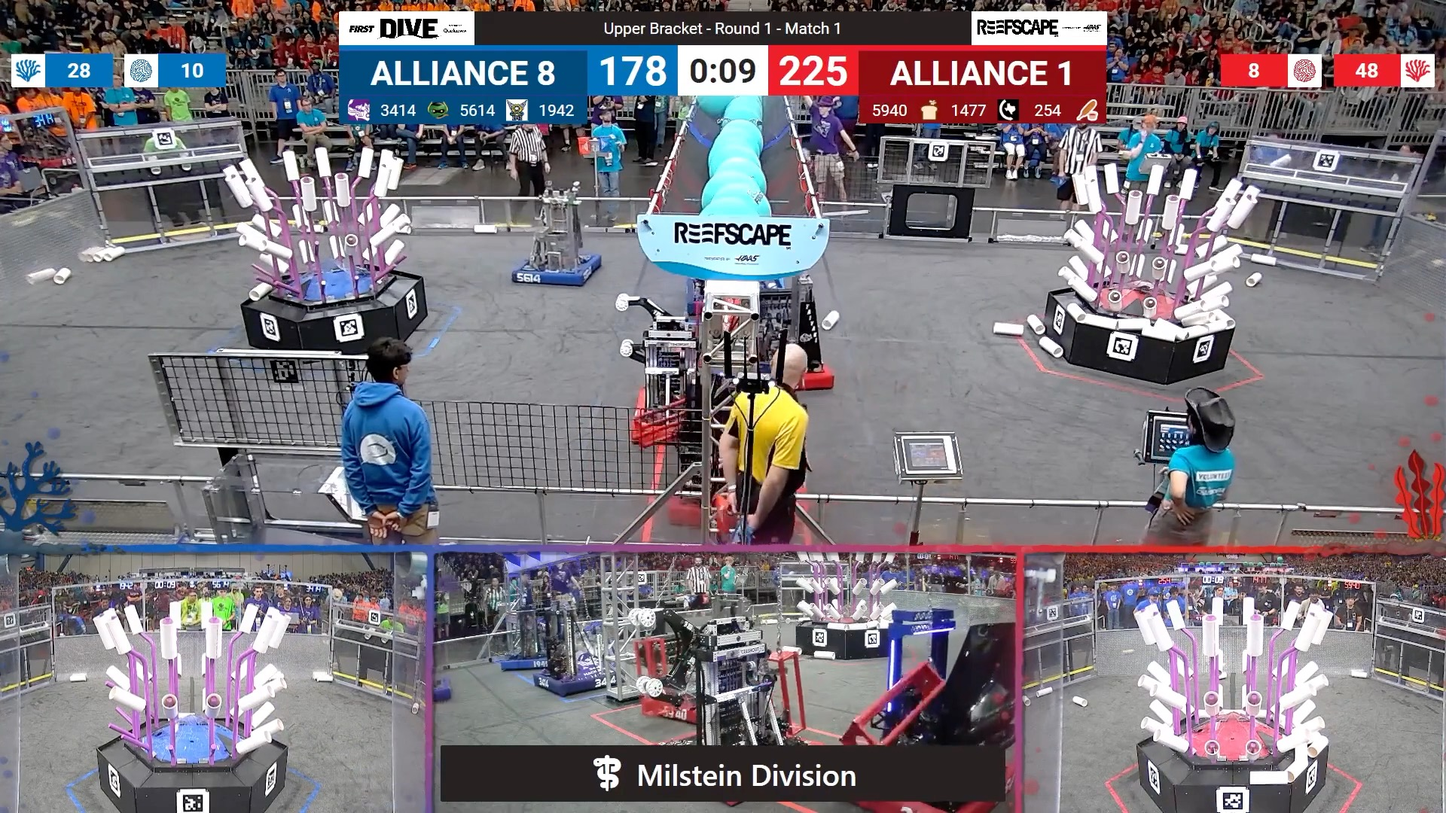bumpers: (759, 345, 845, 397), (511, 250, 608, 291), (523, 665, 621, 698), (638, 693, 704, 723), (498, 653, 560, 674), (433, 675, 456, 711)
